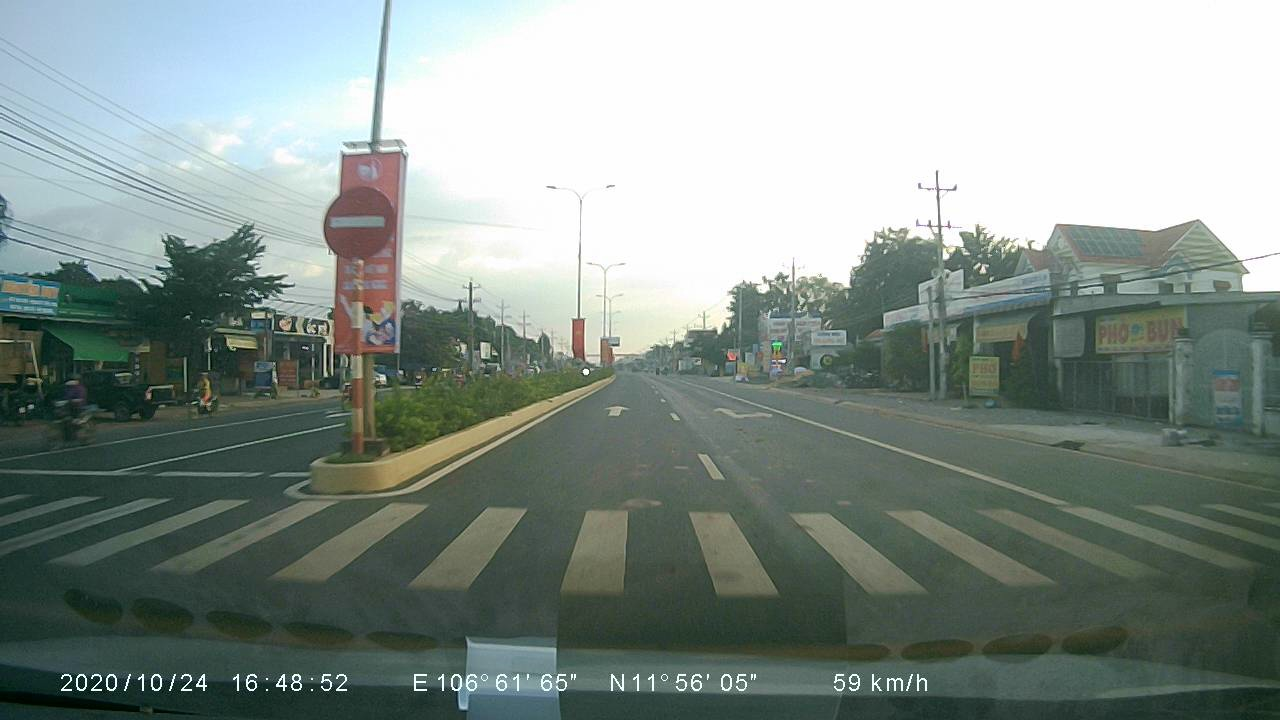Cam di nguoc chieu: (319, 183, 396, 259)
